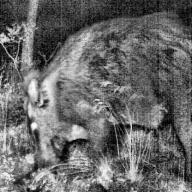boar: (20, 10, 192, 192)
